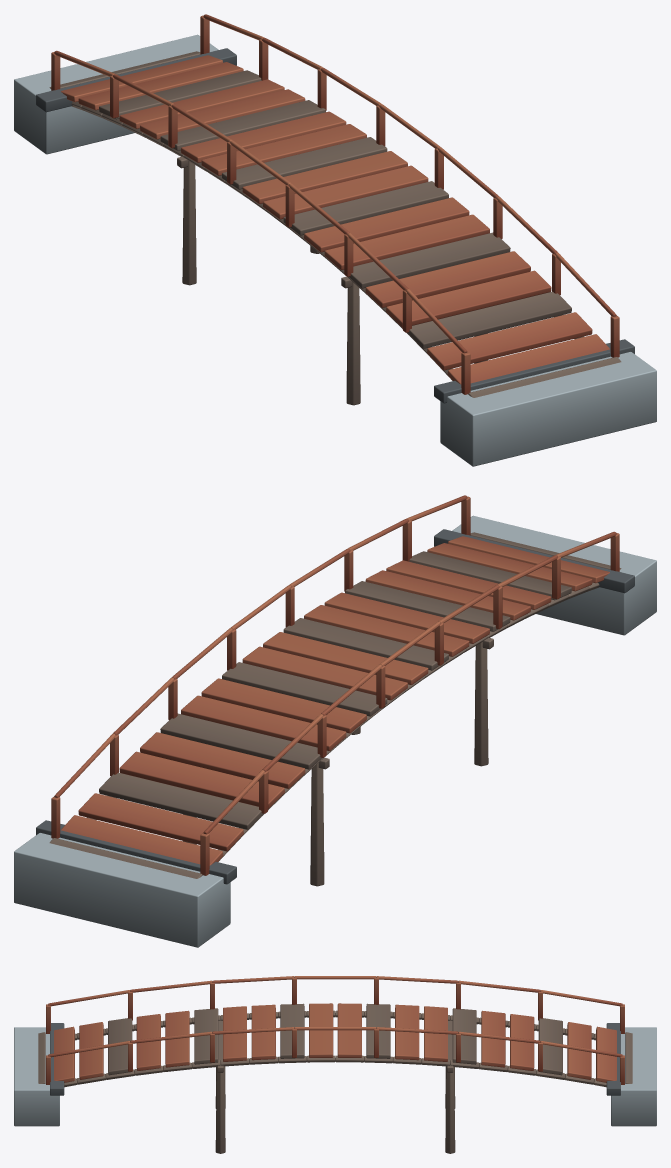
The model's file is bridge_wood.glb.
3 renders of one model, top to bottom at view 1: azimuth 30°, elevation 25°; view 2: azimuth 150°, elevation 25°; view 3: azimuth 270°, elevation 25°, orthographic. The views are drawn at different scales.
Parts seen in each view (by area): view 1: bridge_wood; view 2: bridge_wood; view 3: bridge_wood.
Part boxes in pixels (bbox=[...]): bridge_wood: bbox=[14, 14, 656, 466]; bridge_wood: bbox=[14, 495, 656, 947]; bridge_wood: bbox=[14, 976, 656, 1153].
Size of the model in its own units: 5.4 by 4.93 by 22.4.
1 material, 1 textured.
